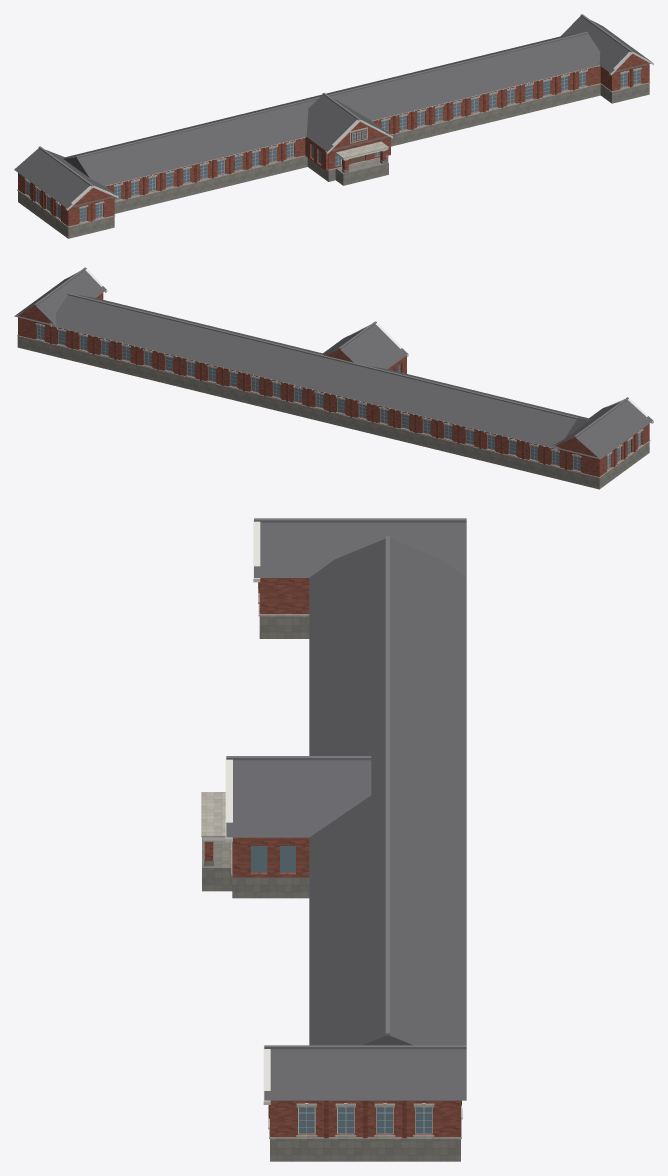
3 views of the same model, one above another, from view 1: azimuth 30°, elevation 25°; view 2: azimuth 150°, elevation 25°; view 3: azimuth 270°, elevation 25° (orthographic). The views are drawn at different scales.
Parts seen in each view (by area): view 1: gyeongnong__roof_tile, gyeongnong__brick_red, gyeongnong__granite_plinth, gyeongnong__glass_heritage, gyeongnong__stone_trim, gyeongnong__roof_ridge, gyeongnong__frame_wood, gyeongnong__brick_dark, gyeongnong__gable_white; view 2: gyeongnong__roof_tile, gyeongnong__brick_red, gyeongnong__granite_plinth, gyeongnong__glass_heritage, gyeongnong__roof_ridge, gyeongnong__stone_trim, gyeongnong__brick_dark, gyeongnong__frame_wood, gyeongnong__gable_white; view 3: gyeongnong__roof_tile, gyeongnong__brick_red, gyeongnong__granite_plinth, gyeongnong__roof_ridge, gyeongnong__glass_heritage, gyeongnong__stone_trim, gyeongnong__gable_white.
Boxes of the visible parts, x1,y1,x2,y2 form: gyeongnong__roof_tile: (14,16,652,208); gyeongnong__brick_red: (18,53,649,226); gyeongnong__granite_plinth: (18,83,649,238); gyeongnong__glass_heritage: (26,70,640,221); gyeongnong__stone_trim: (17,67,650,227); gyeongnong__roof_ridge: (38,14,633,186); gyeongnong__frame_wood: (26,70,640,222); gyeongnong__brick_dark: (31,68,632,221); gyeongnong__gable_white: (65,51,653,210); gyeongnong__roof_tile: (14,270,653,459); gyeongnong__brick_red: (18,293,649,477); gyeongnong__granite_plinth: (17,336,649,489); gyeongnong__glass_heritage: (37,325,641,470); gyeongnong__roof_ridge: (34,267,628,437); gyeongnong__stone_trim: (17,323,650,478); gyeongnong__brick_dark: (50,325,635,469); gyeongnong__frame_wood: (37,325,640,470); gyeongnong__gable_white: (49,269,653,449); gyeongnong__roof_tile: (226,522,466,1100); gyeongnong__brick_red: (204,578,460,1137); gyeongnong__granite_plinth: (202,616,460,1161); gyeongnong__roof_ridge: (226,518,466,1049); gyeongnong__glass_heritage: (251,846,431,1133); gyeongnong__stone_trim: (201,582,462,1138); gyeongnong__gable_white: (202,519,270,1104).
Bounding box in the file's own units: 109 × 9.94 × 21.27.
Materials: 10 (4 with a texture image).
